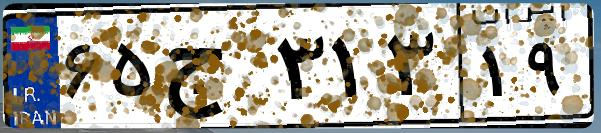1: (330, 28, 385, 110), (475, 38, 525, 113)
3: (270, 28, 330, 110), (385, 28, 445, 110)
5: (110, 28, 158, 98)
6: (57, 26, 110, 100)
9: (525, 38, 570, 115)
ج: (158, 20, 270, 120)
